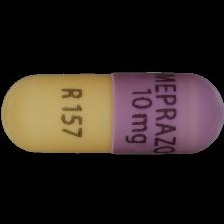49999-611: (0, 0, 224, 224)
